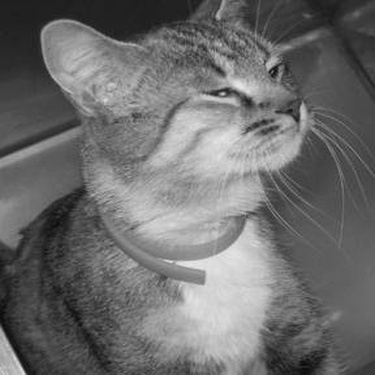cat: (2, 3, 345, 370)
